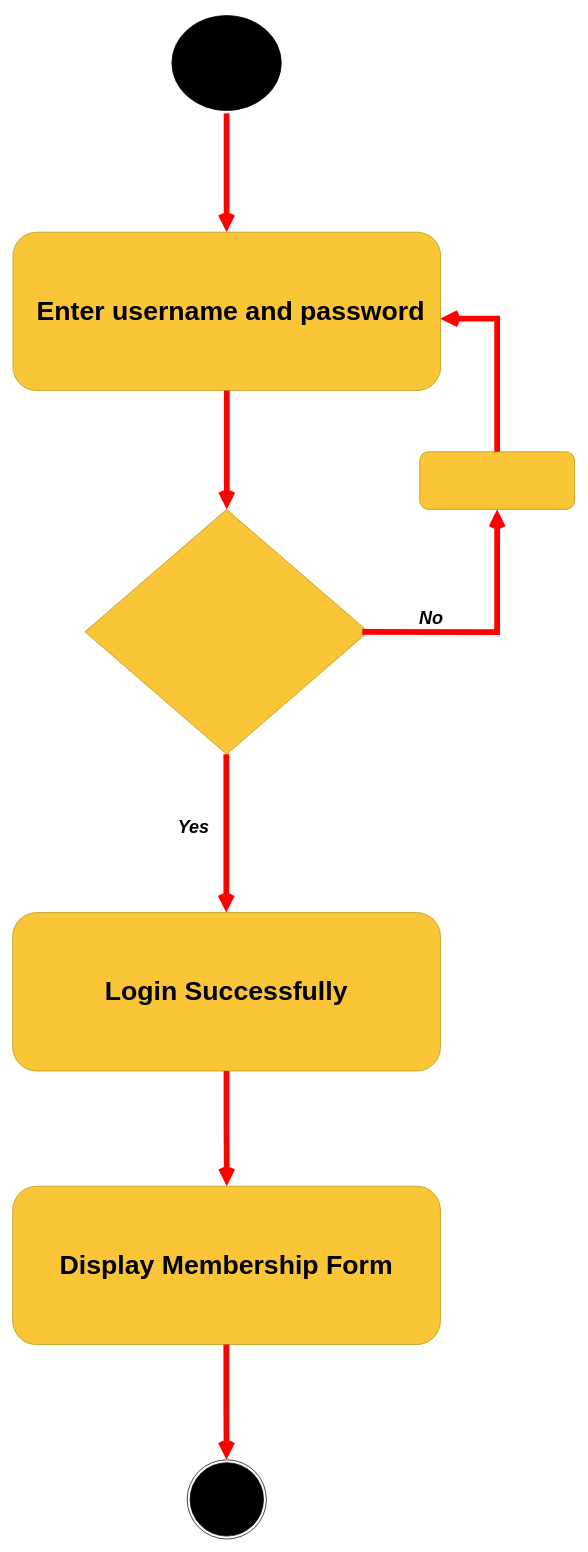
Image size: 588x1552. Some labels were removed from this diagram. The shapes that lost their labels are listed below. From the top down, each one's centre as x and y in pixels, then its label:
At [497,480]: "Invalid login".
At [226,631]: "Correct login and password?".
